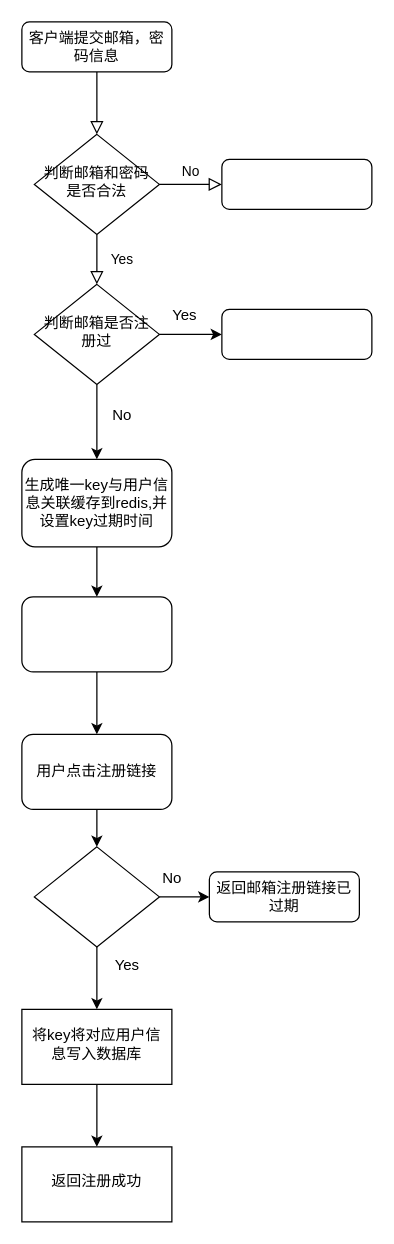
This 394x1244 diagram has some shape labels left out. Each missing label, with the centre of its shape:
发送包含key的注册链接到用户邮箱: (x=96, y=634)
后台判断key是否在有效期内: (x=96, y=896)
返回邮箱已注册信息: (x=296, y=333)
返回邮箱或密码不合法: (x=296, y=183)
